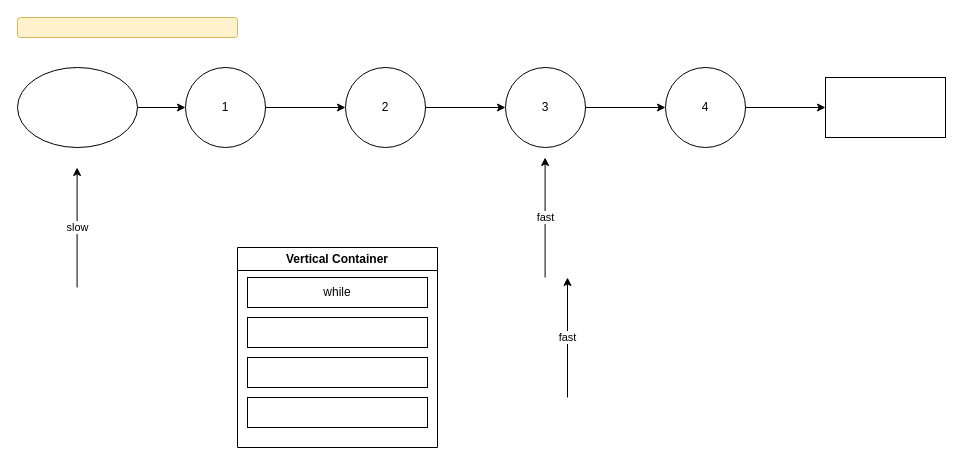
This 963x465 diagram has some shape labels left out. The shapes that lost their labels are listed below. From the top down, each one's centre as x and y in pixels, then its label:
[127,27]: n=2
[77,107]: dumpNode
[885,107]: NULL
